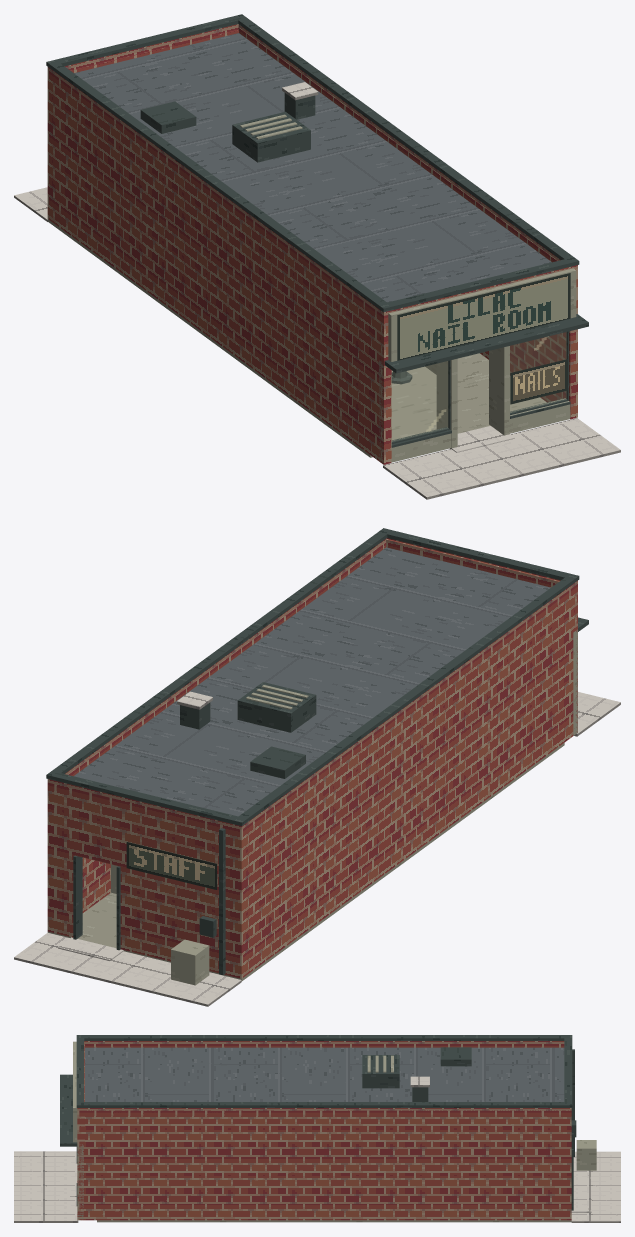
The model's file is salon-2010-mid.glb.
The picture shows the model from 3 angles, top to bottom: view 1: azimuth 30°, elevation 25°; view 2: azimuth 150°, elevation 25°; view 3: azimuth 270°, elevation 25°; orthographic projection. The views are drawn at different scales.
Parts seen in each view (by area): view 1: shell, lot, sign_name, fixed_interior, sign_shop_window; view 2: shell, lot, fixed_interior, sign_staff; view 3: shell, lot, fixed_interior.
Boxes of the visible parts, bbox=[...] form: shell: bbox=[46, 14, 588, 464]; lot: bbox=[14, 187, 620, 499]; sign_name: bbox=[397, 273, 570, 360]; fixed_interior: bbox=[47, 219, 546, 457]; sign_shop_window: bbox=[510, 359, 567, 404]; shell: bbox=[46, 528, 588, 978]; lot: bbox=[14, 692, 620, 1006]; fixed_interior: bbox=[47, 743, 564, 981]; sign_staff: bbox=[126, 842, 216, 889]; shell: bbox=[60, 1035, 591, 1220]; lot: bbox=[14, 1140, 620, 1222]; fixed_interior: bbox=[97, 1220, 571, 1222].
Size of what is drawn, in the model's own units: 6.05 by 5.06 by 22.1.
9 materials, 9 textured.
